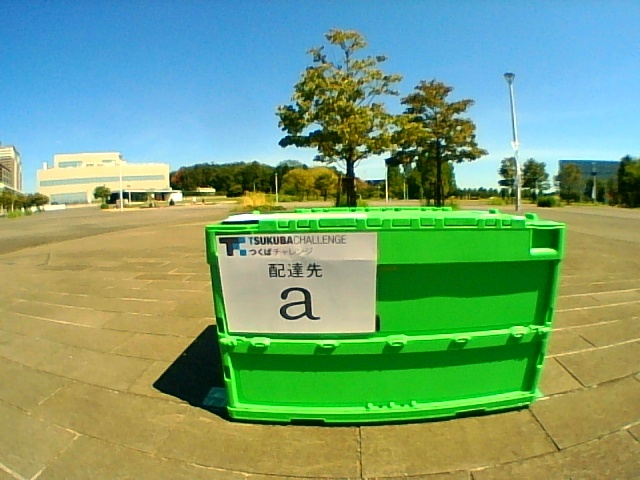green_box: (205, 207, 566, 424)
tag_a: (231, 238, 374, 333)
